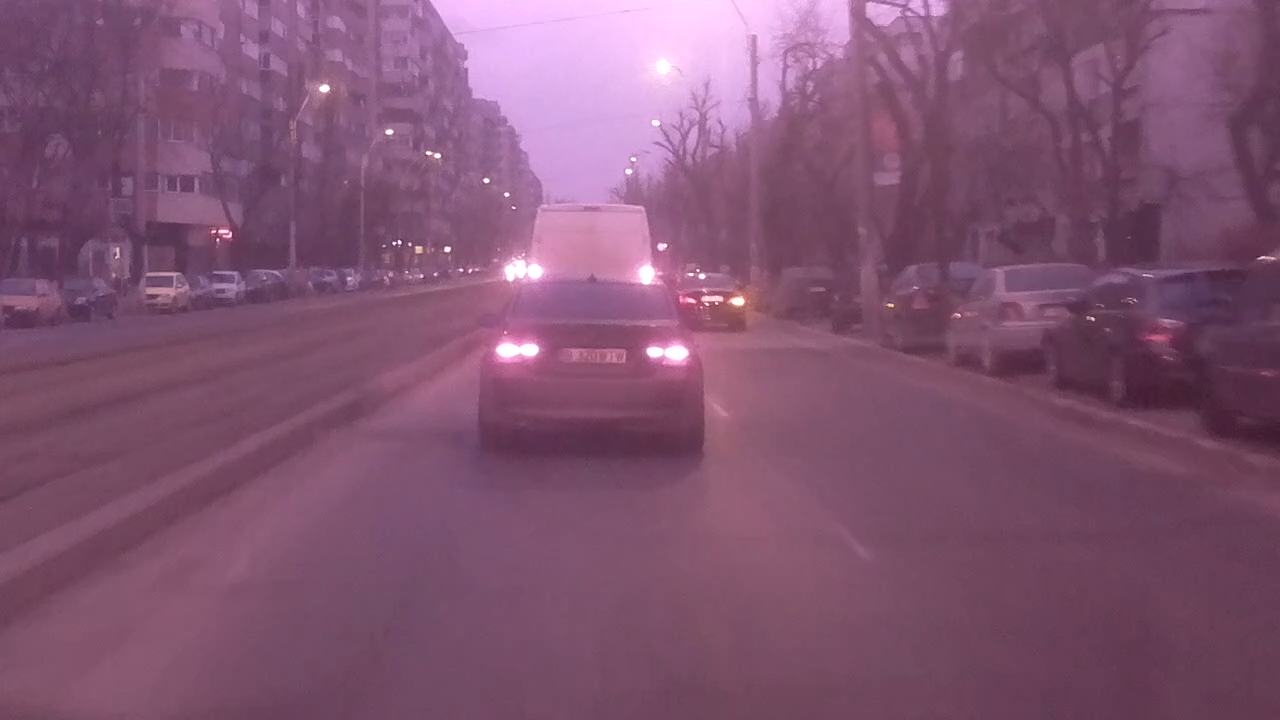license-plate: (553, 344, 630, 366)
